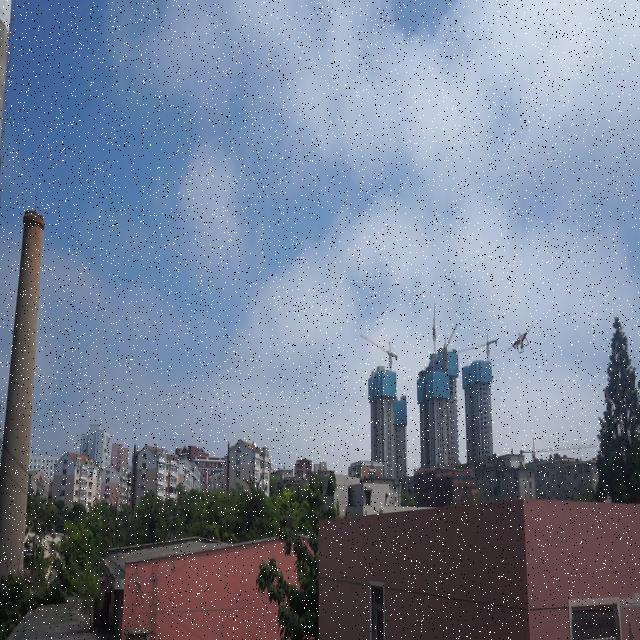UAV: (507, 324, 533, 353)
